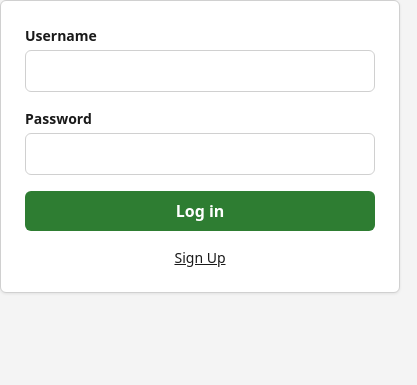
Test: LoginForm (Step 13) › errors › on failure: shows the error from the result data and stays on the page
In the field labelled "Username": (200, 71) [25, 50, 375, 92], type "someone"
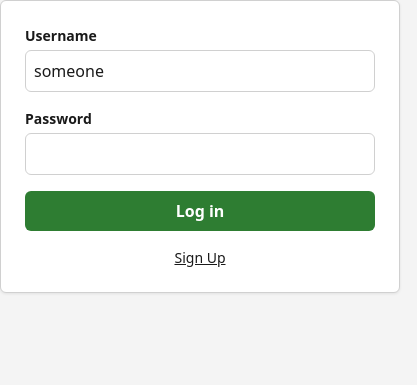
In the password field labelled "Password": (200, 154) [25, 133, 375, 175], type "wrong"
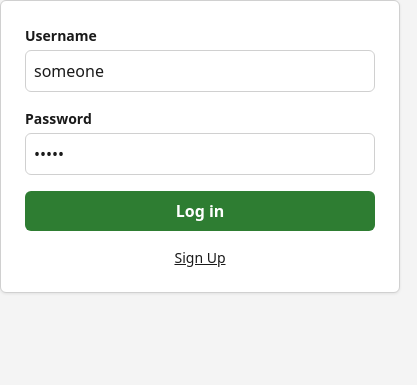
Click the button "Log in": (200, 211) [25, 191, 375, 231]
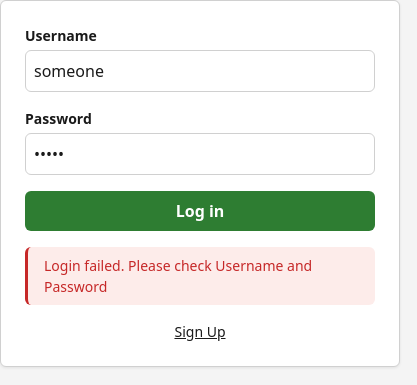
Now the list item "Login failed. Please check Username and Password" is shown, box [44, 255, 359, 297]
